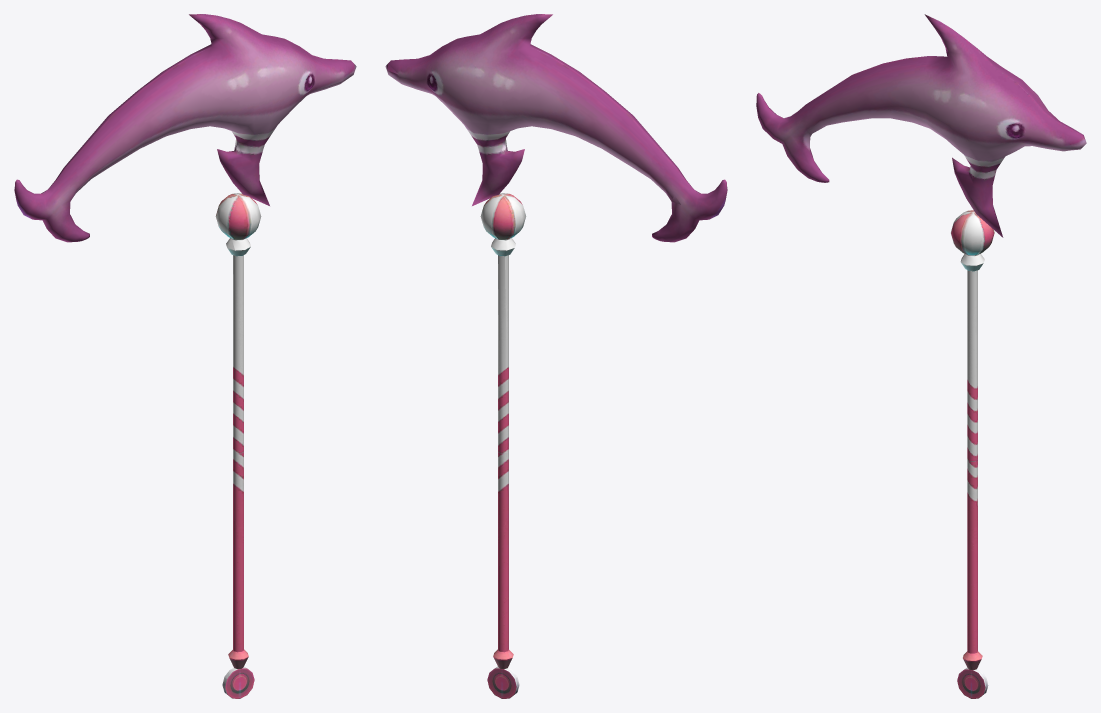
Rendered from Weapon21.FBX.
3 views of the same model, side by side, from view 1: azimuth 30°, elevation 25°; view 2: azimuth 150°, elevation 25°; view 3: azimuth 330°, elevation 25° (orthographic). The views are drawn at different scales.
Visible parts, largest first — view 1: Weapon21; view 2: Weapon21; view 3: Weapon21.
Boxes of the visible parts, x1=… form: Weapon21: x1=14, y1=14, x2=356, y2=698; Weapon21: x1=385, y1=14, x2=727, y2=698; Weapon21: x1=756, y1=14, x2=1086, y2=698.
Size of the model in its own units: 117 by 227 by 23.91.
